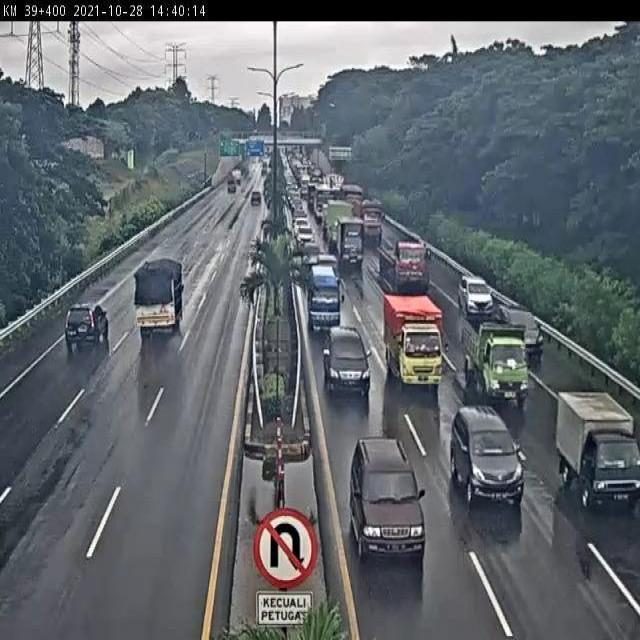car: (351, 433, 428, 560), (450, 407, 523, 505), (323, 319, 372, 393), (496, 300, 544, 356), (67, 300, 109, 348), (456, 271, 493, 313), (315, 252, 340, 277), (301, 240, 322, 268)
truck: (558, 388, 640, 507), (461, 308, 530, 404), (381, 287, 446, 388), (135, 256, 184, 336), (376, 237, 434, 291), (306, 263, 341, 329), (335, 217, 364, 267)
